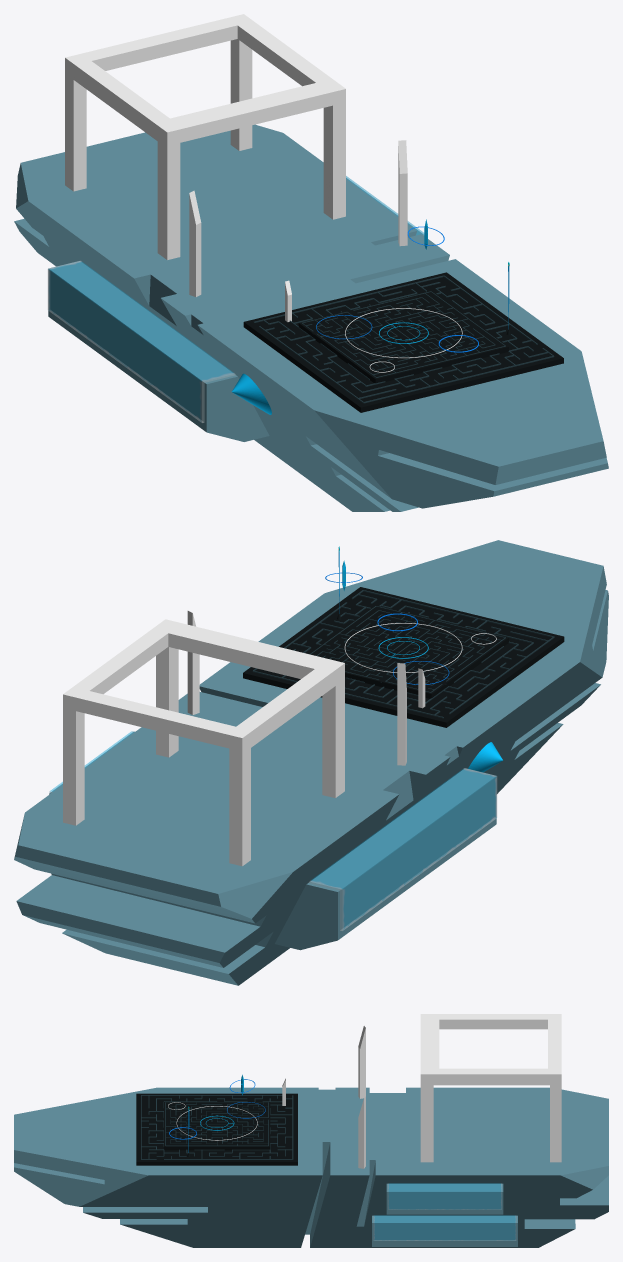
The model's file is Halo.glb.
3 renders of one model, top to bottom at view 1: azimuth 30°, elevation 25°; view 2: azimuth 150°, elevation 25°; view 3: azimuth 270°, elevation 25°, orthographic. The views are drawn at different scales.
Visible parts, largest first — view 1: Hull, Temple, Altar, Ballroom, Bwindow, Lower maze, Upper maze, Starboard obulisque, Port Obulisque, Hull window; view 2: Hull, Temple, Altar, Ballroom, Bwindow, Lower maze, Upper maze, Starboard obulisque, Port Obulisque, Hull window; view 3: Hull, Altar, Temple, Lower lounge, Upper Lounge, Llwindow, Ulwindow, Upper maze, Lower maze, Starboard obulisque, Port Obulisque.
Part boxes in pixels (x1,y1,x2,y2): Hull: (14,124,608,511); Temple: (65,14,345,259); Altar: (243,272,563,412); Ballroom: (48,261,269,441); Bwindow: (48,261,235,422); Lower maze: (253,275,554,403); Upper maze: (301,291,505,377); Starboard obulisque: (189,190,201,296); Port Obulisque: (398,140,407,246); Hull window: (232,373,271,414); Hull: (14,540,608,985); Temple: (63,619,344,866); Altar: (243,587,564,727); Ballroom: (275,768,496,950); Bwindow: (309,768,496,930); Lower maze: (252,590,554,718); Upper maze: (310,606,505,692); Starboard obulisque: (397,663,406,765); Port Obulisque: (187,611,199,714); Hull window: (468,742,502,772); Hull: (14,1087,608,1247); Altar: (136,1093,297,1165); Temple: (420,1014,561,1162); Lower lounge: (372,1215,517,1246); Upper Lounge: (386,1183,503,1214); Llwindow: (374,1215,515,1240); Ulwindow: (388,1183,501,1209); Upper maze: (165,1102,268,1146); Lower maze: (141,1095,293,1159); Starboard obulisque: (358,1026,365,1098); Port Obulisque: (358,1096,365,1168).
Size of the model in its own units: 89.56 by 76.78 by 227.
